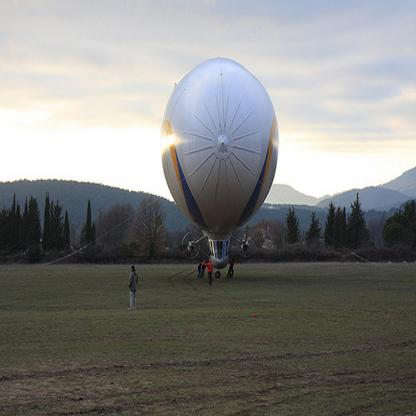Airship: (157, 60, 282, 286)
